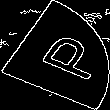P_NW: (13, 27, 97, 83)
